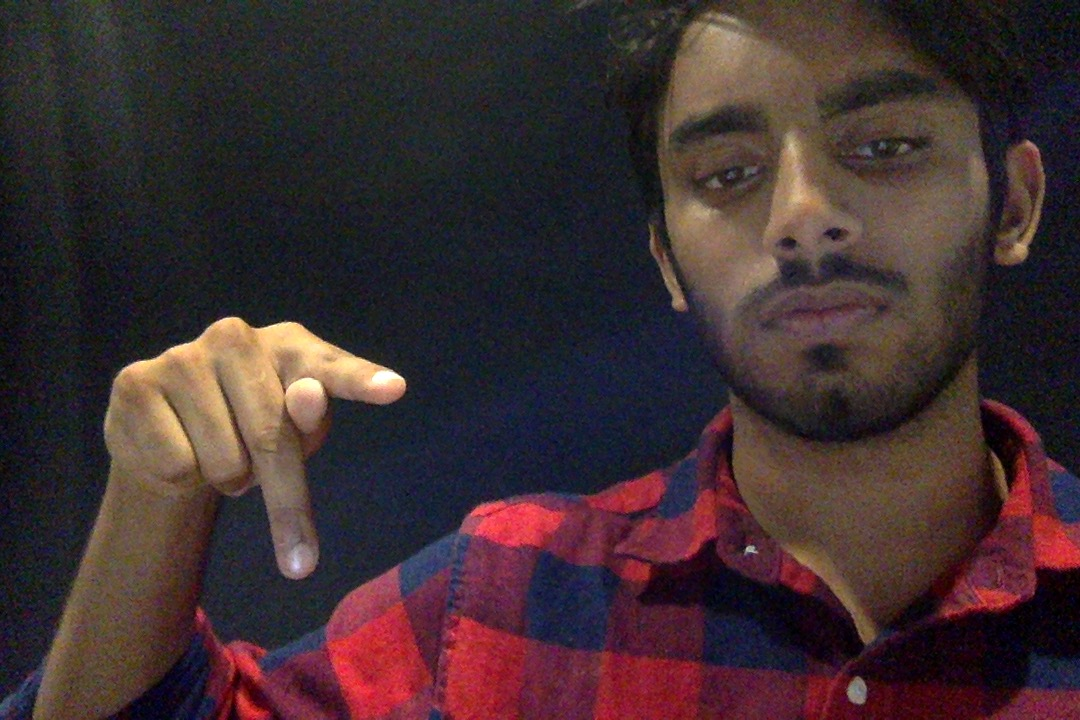p: (75, 288, 424, 617)
